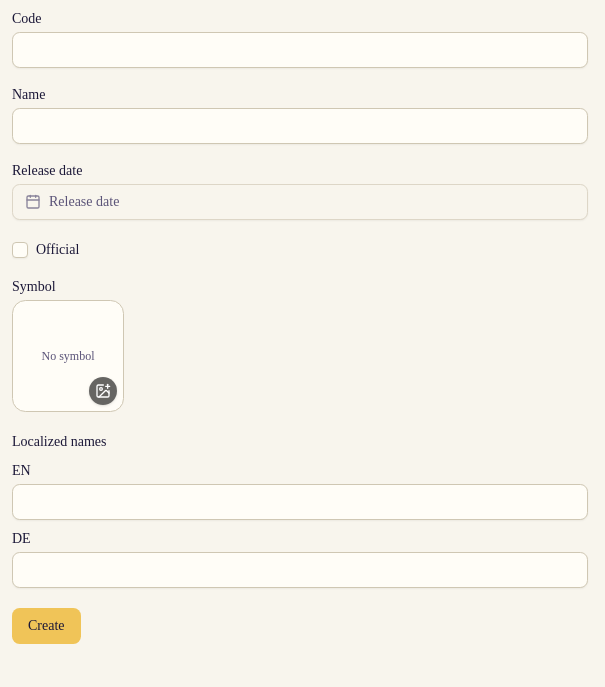
SetForm › maps a duplicate code onto the code field
In the field labelled "Code": point(300, 50) x1=12 y1=32 x2=588 y2=68, type "base"
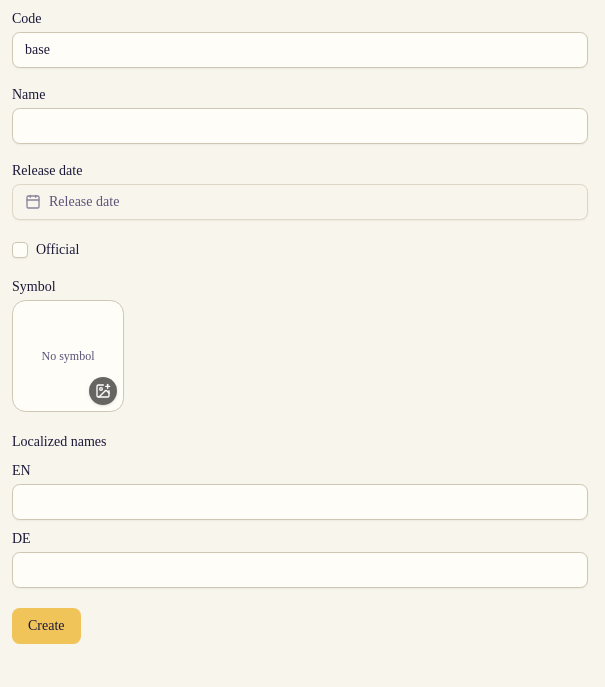
In the field labelled "Name": point(300, 126) x1=12 y1=108 x2=588 y2=144, type "Base Set"
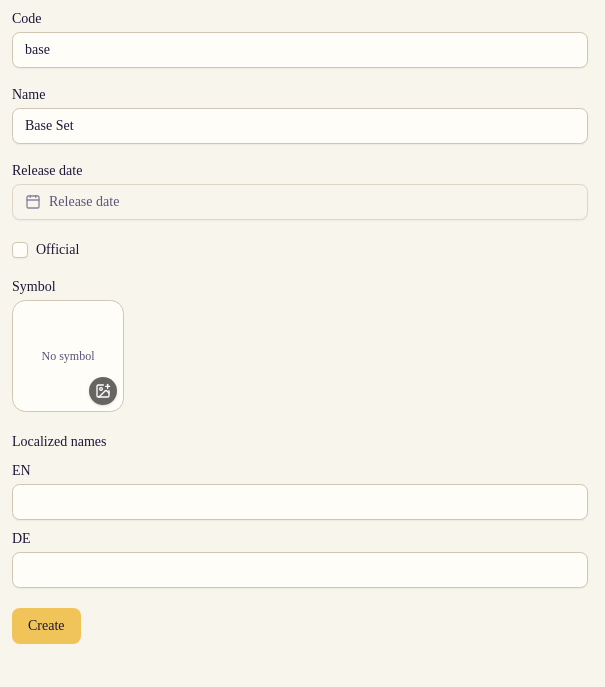
Click the button "Create": point(46, 626) x1=12 y1=608 x2=80 y2=644
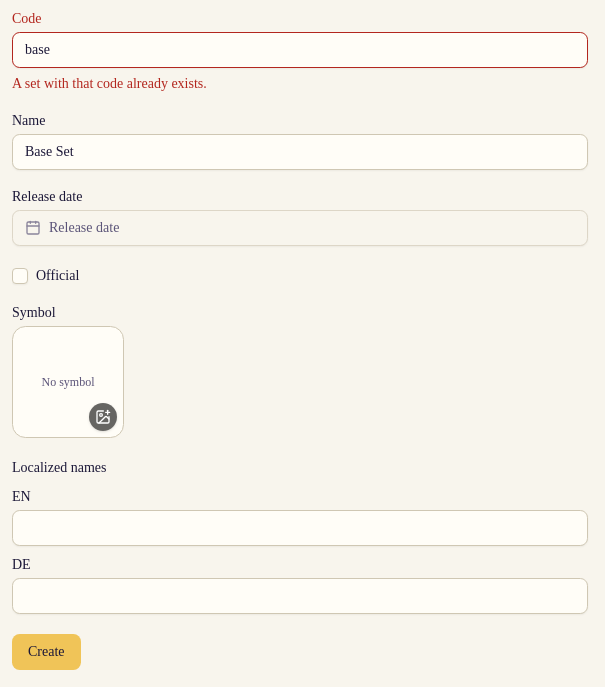
Result: the text "A set with that code already exists." is shown at x1=12 y1=76 x2=207 y2=91
